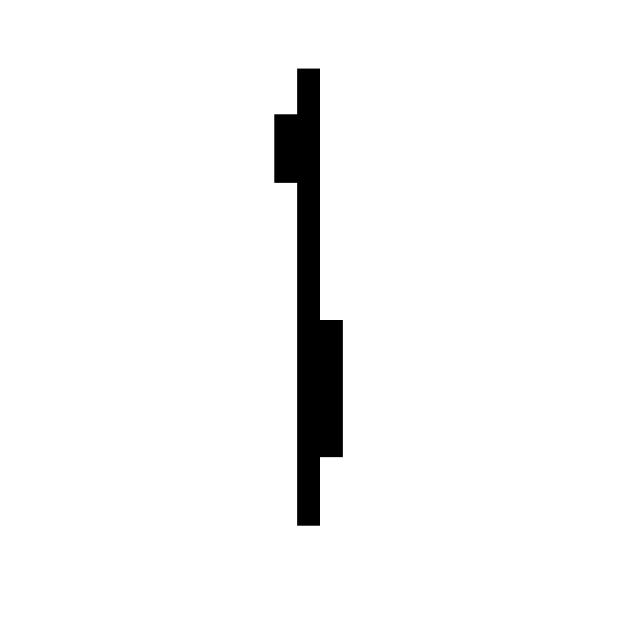1 -one-: (242, 46, 374, 551)
